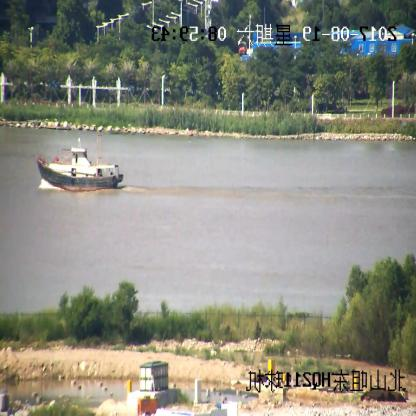Fishing Boat: (35, 133, 124, 192)
